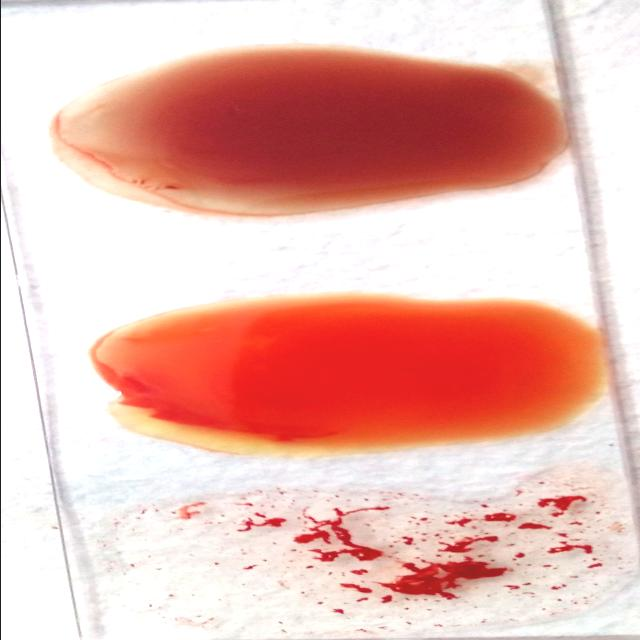D: (100, 484, 618, 625)
